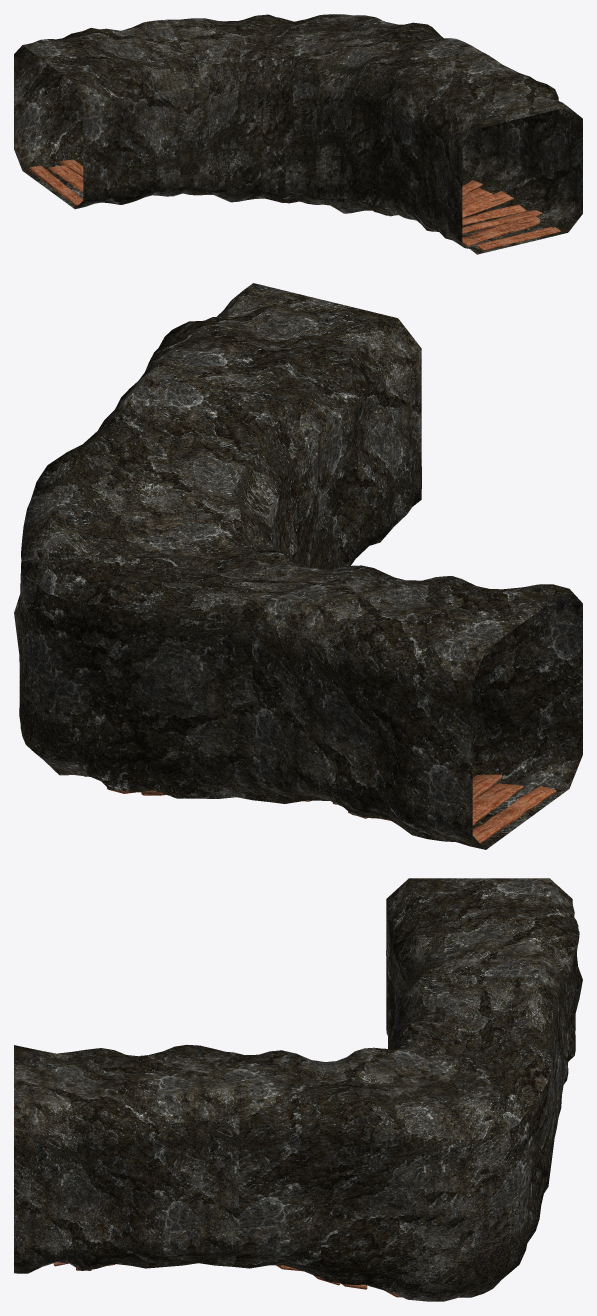
File: Cave_056.fbx
3 views of the same model, one above another, from view 1: azimuth 30°, elevation 25°; view 2: azimuth 150°, elevation 25°; view 3: azimuth 270°, elevation 25° (orthographic). The views are drawn at different scales.
Visible parts, largest first — view 1: Cave.056; view 2: Cave.056; view 3: Cave.056.
Part boxes in pixels (x1=…): Cave.056: x1=14, y1=14, x2=582, y2=254; Cave.056: x1=14, y1=283, x2=582, y2=849; Cave.056: x1=14, y1=878, x2=582, y2=1301.
Size of the model in its own units: 910 by 407 by 917.
